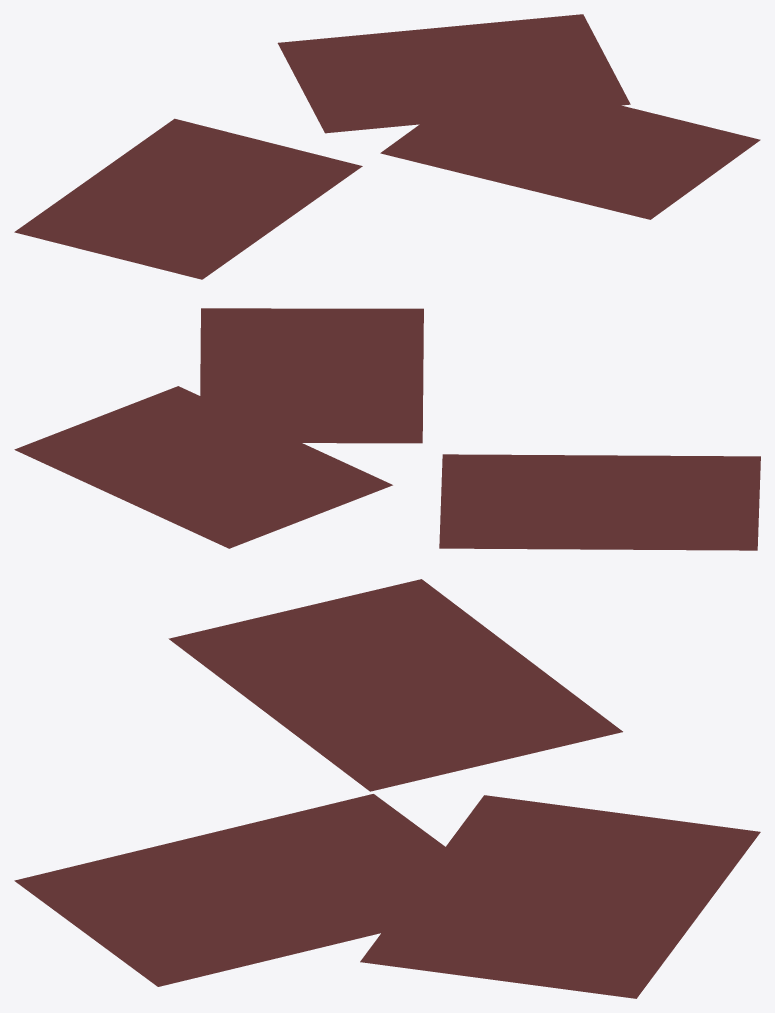
The model's file is calleHojas.fbx.
The picture shows the model from 3 angles, top to bottom: view 1: azimuth 30°, elevation 25°; view 2: azimuth 150°, elevation 25°; view 3: azimuth 270°, elevation 25°; orthographic projection. The views are drawn at different scales.
Parts seen in each view (by area): view 1: Hojas; view 2: Hojas; view 3: Hojas.
Part boxes in pixels (x1,y1,x2,y2): Hojas: [14, 14, 760, 279]; Hojas: [14, 308, 760, 550]; Hojas: [14, 579, 760, 998].
Size of the model in its own units: 0.0152 by 0.000165 by 0.0114.
